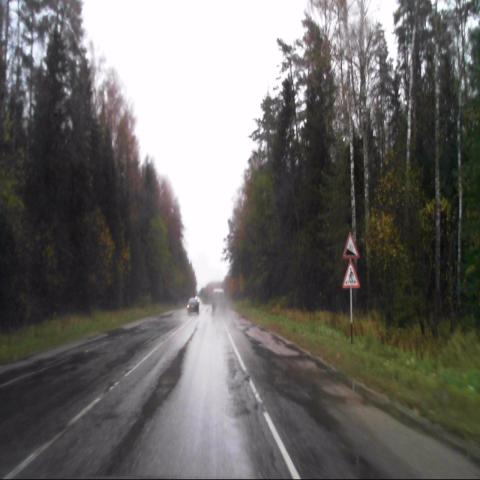1_13: (342, 230, 360, 258)
